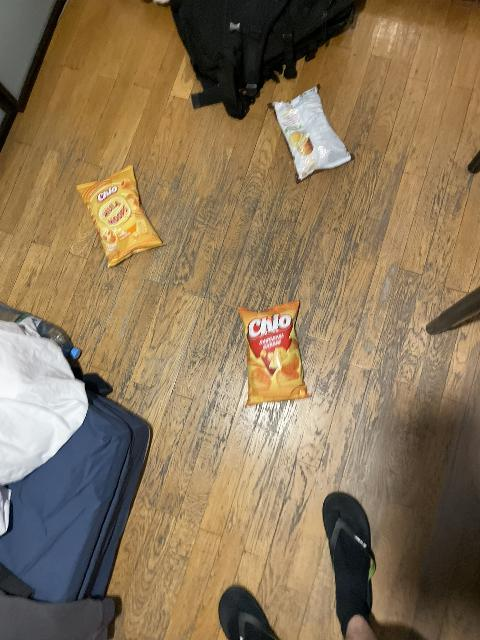Chio Cascaval 125g: (237, 300, 311, 405)
Chio Hula Hoops Cheese 70g: (75, 165, 166, 267)
Lays Beef Grilled Ribs 125g: (270, 86, 353, 183)
